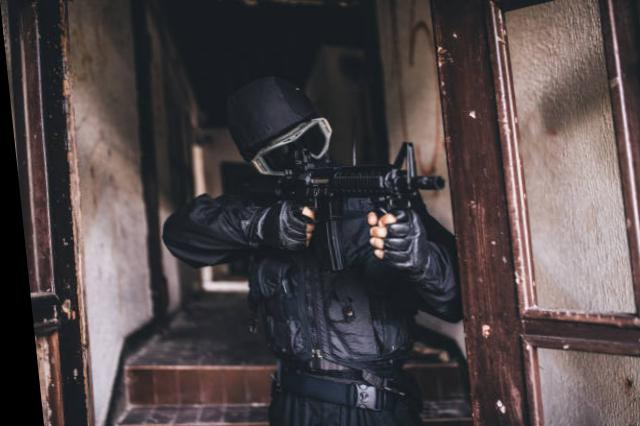other: (162, 75, 459, 403)
